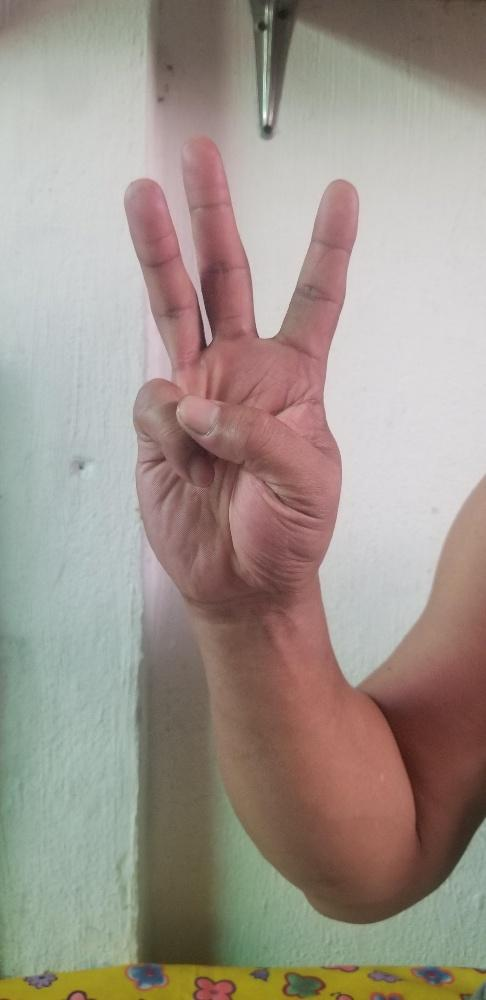w: (121, 134, 360, 594)
